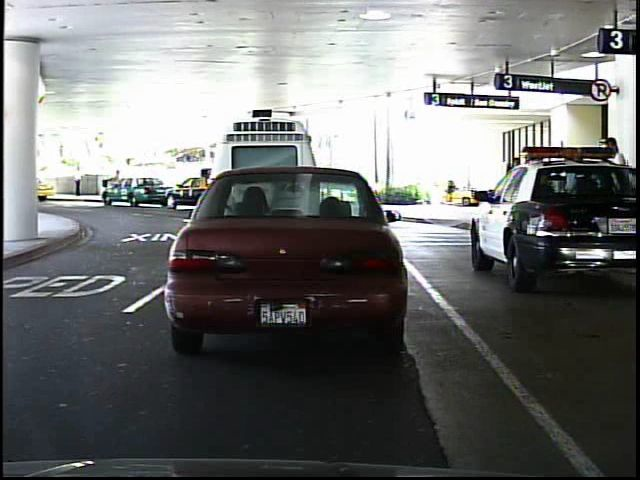person: (596, 133, 632, 253), (108, 166, 127, 202), (72, 162, 86, 197)
